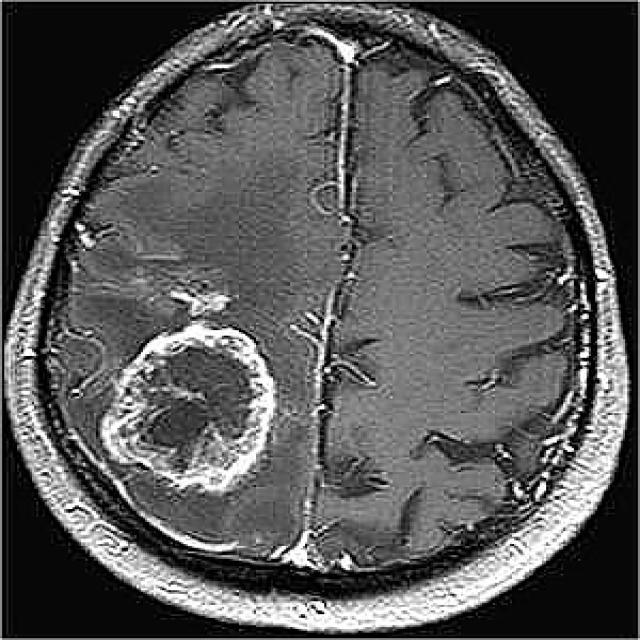Tumor-Cell: (108, 298, 272, 498)
